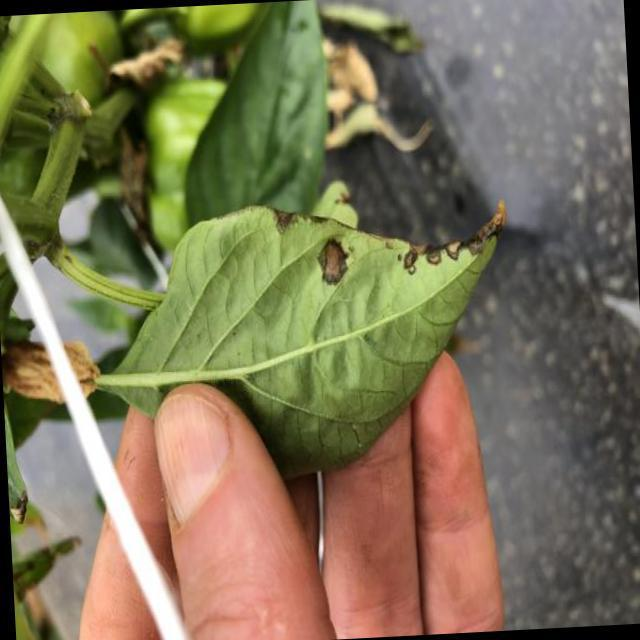Bacterial Spot: (255, 202, 479, 300)
